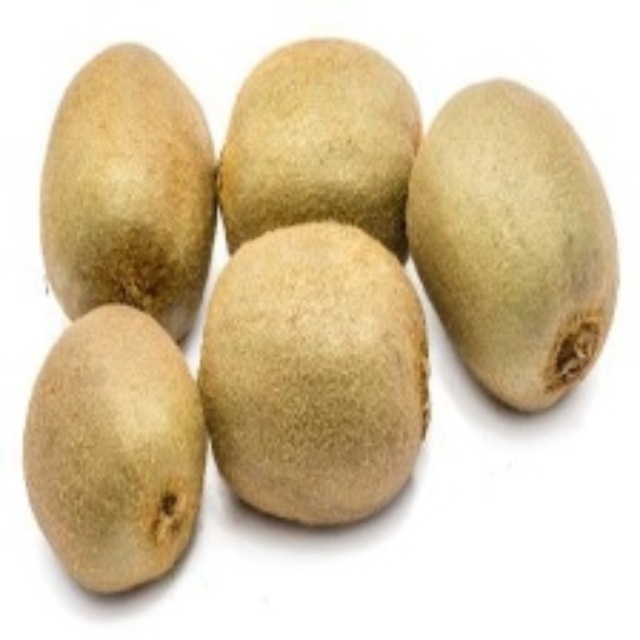kiwi: (408, 75, 620, 415), (193, 233, 434, 527), (20, 315, 216, 594), (41, 40, 228, 329), (217, 36, 428, 267)
